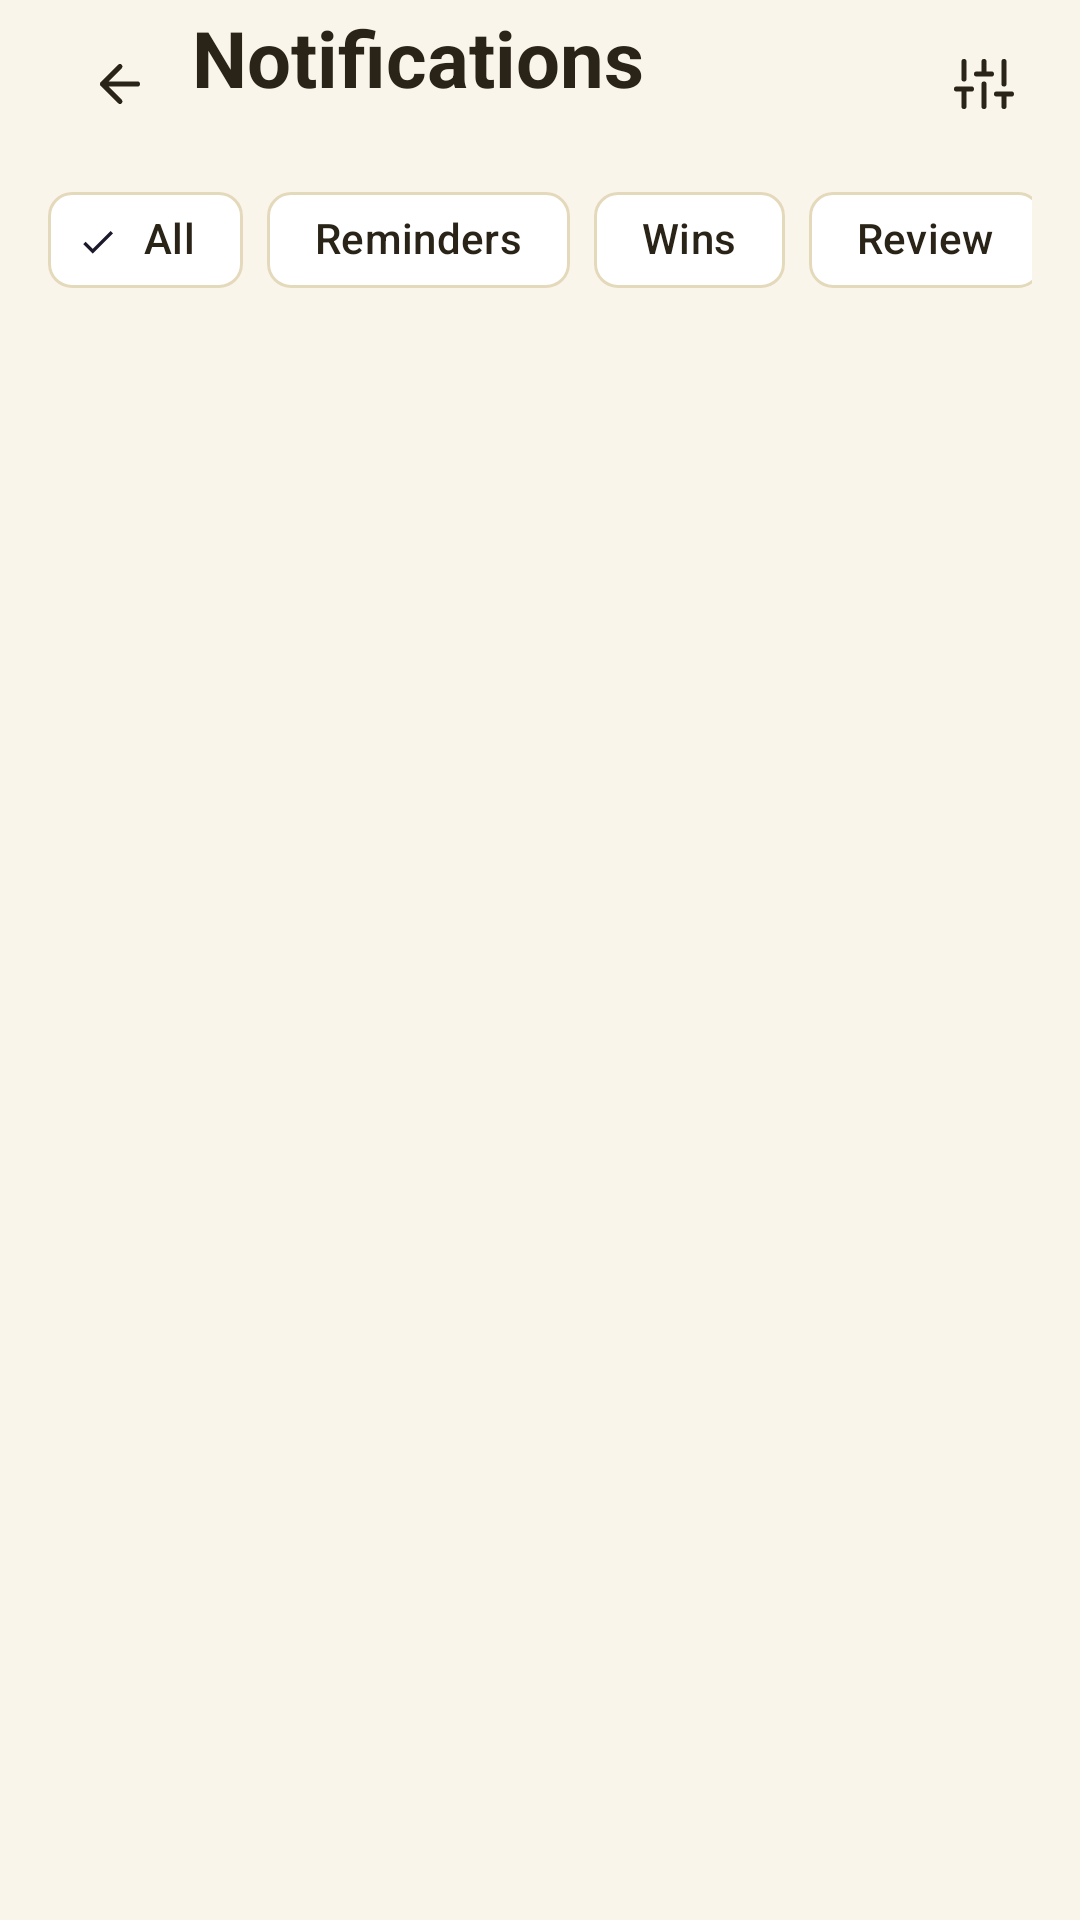

Icons on this 1080px×1920px Android screen, each with its box as (x1, y1, x2, y2):
Back: (100, 64, 140, 104)
